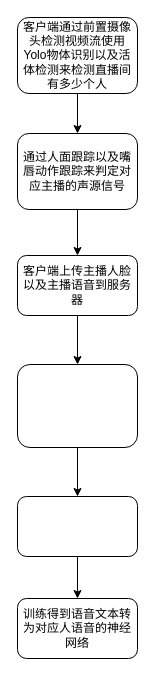
The diagram is 155 pixels wide and 676 high, and some of its shapes have lost their labels. The centre of each missing label's shape, as x and y in pixels:
服务器通过人脸信息为对应人分配身份id信息，服务器通过噪音过滤后，将语音转为文本: the point at 77,406
服务器通过语音文本和声源进行对抗神经网络训练: the point at 77,526
